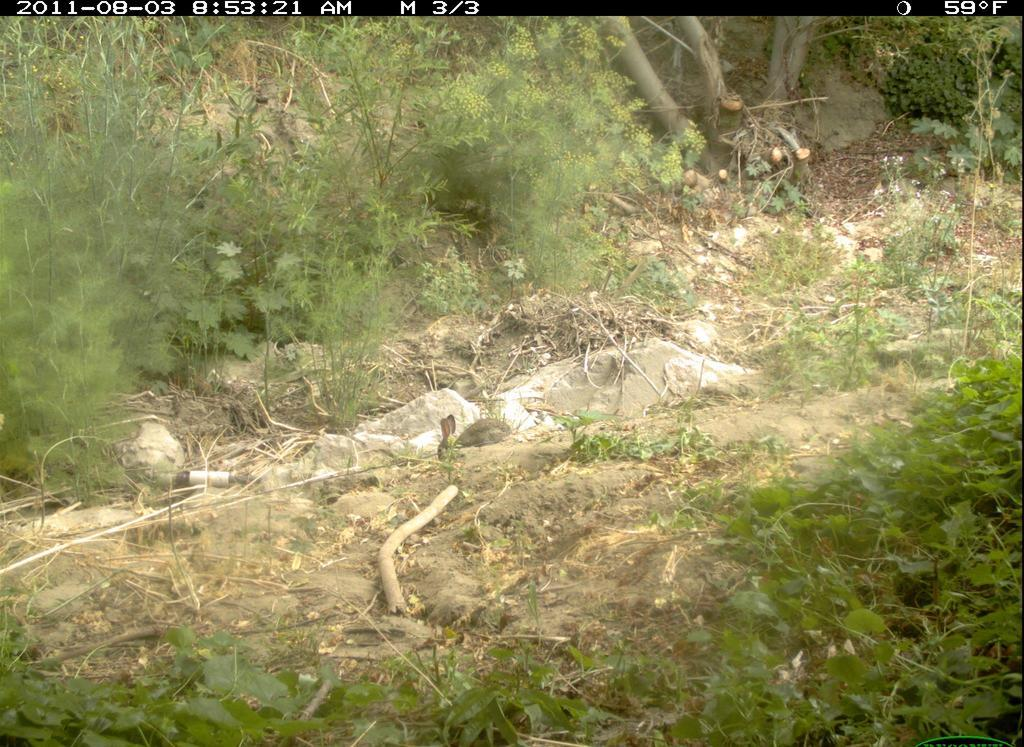rabbit: (429, 417, 515, 463)
